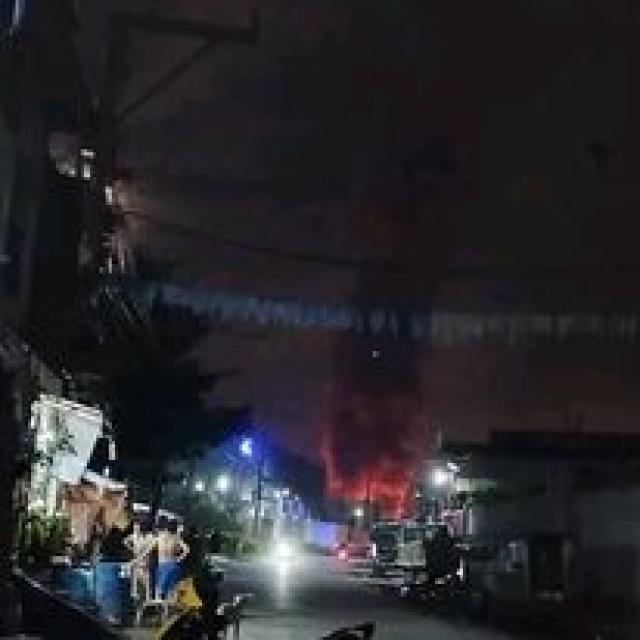Fire: (336, 434, 401, 516)
Smoke: (354, 242, 424, 402), (340, 352, 422, 469)
